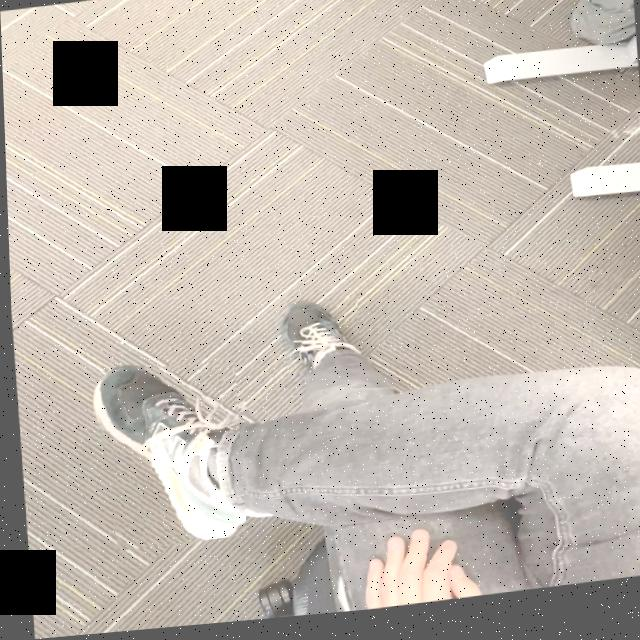shoe: (92, 371, 241, 544), (279, 306, 358, 377)
